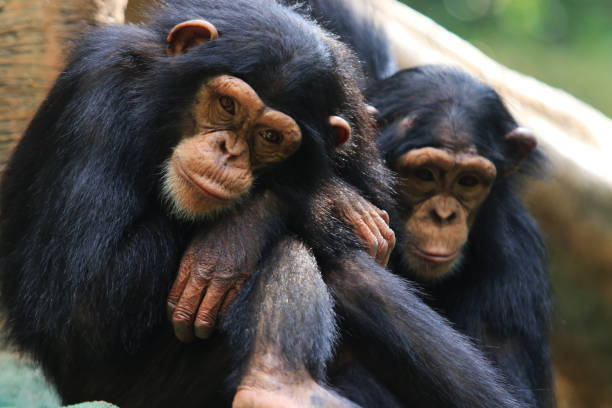chimpanzee: (110, 4, 373, 267), (339, 52, 548, 290)
